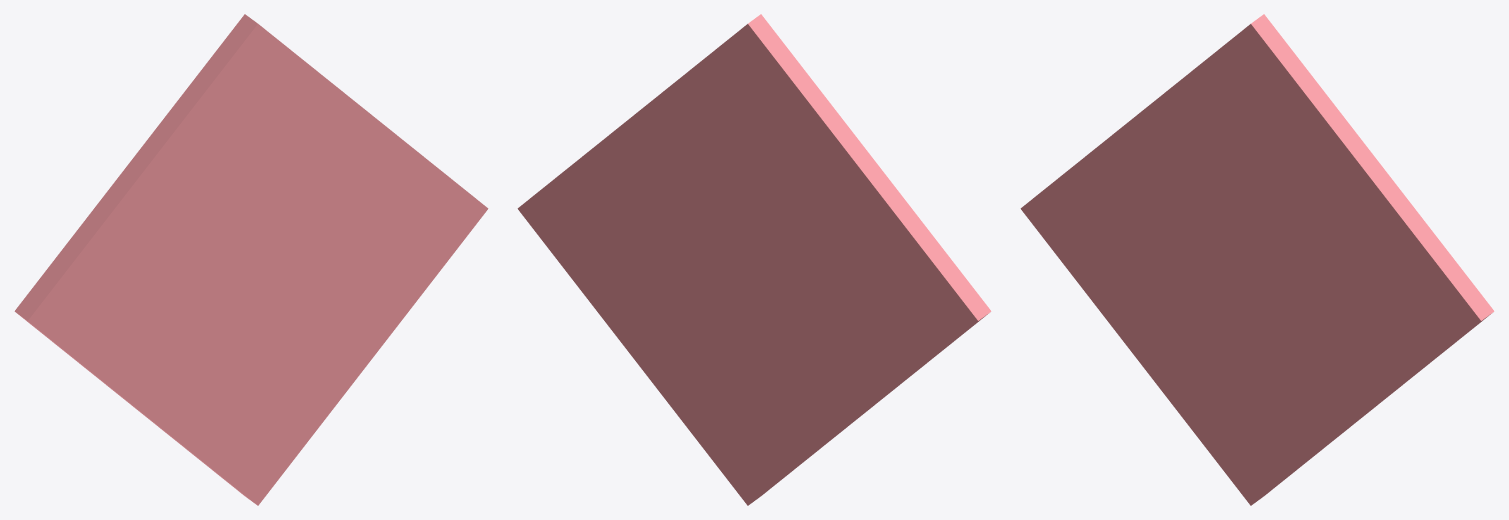
File: rombo.glb
3 renders of one model, left to right at view 1: azimuth 30°, elevation 25°; view 2: azimuth 150°, elevation 25°; view 3: azimuth 330°, elevation 25°, orthographic.
Parts seen in each view (by area): view 1: rombo; view 2: rombo; view 3: rombo.
Boxes of the visible parts, x1,y1,x2,y2 form: rombo: (14, 14, 488, 505); rombo: (517, 14, 991, 505); rombo: (1020, 14, 1494, 505).
Size of the model in its own units: 1 by 1 by 0.05.
